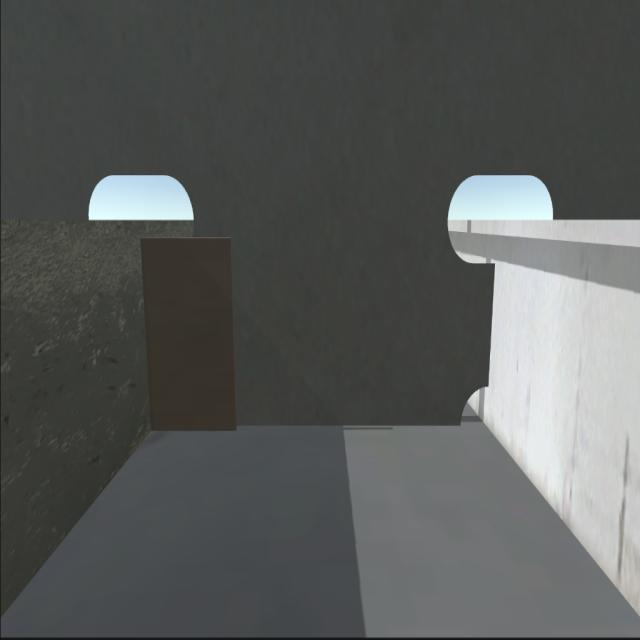fillet_hole: (454, 372, 494, 426)
fillet_yong_jeop_jang: (147, 416, 467, 434)
longi_yong_jeop_jang: (123, 231, 164, 433)
plate_CP01: (136, 231, 239, 427)
